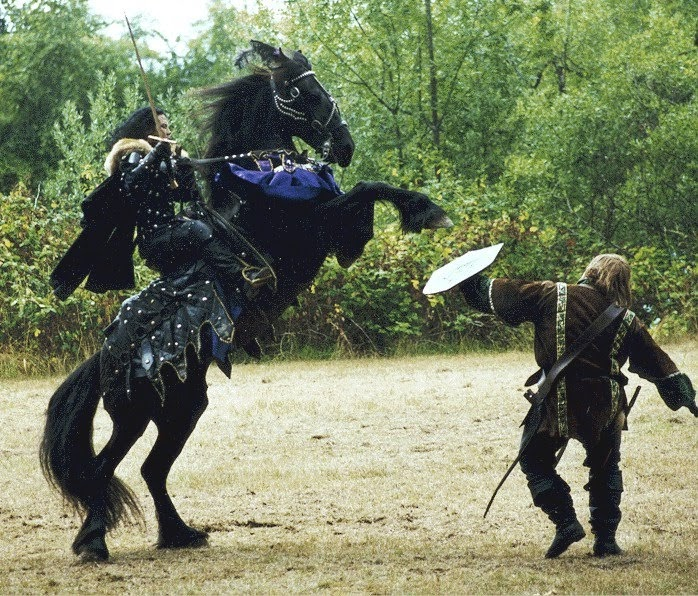Horse: (88, 61, 429, 513)
Person: (455, 211, 672, 557), (86, 92, 252, 312)
